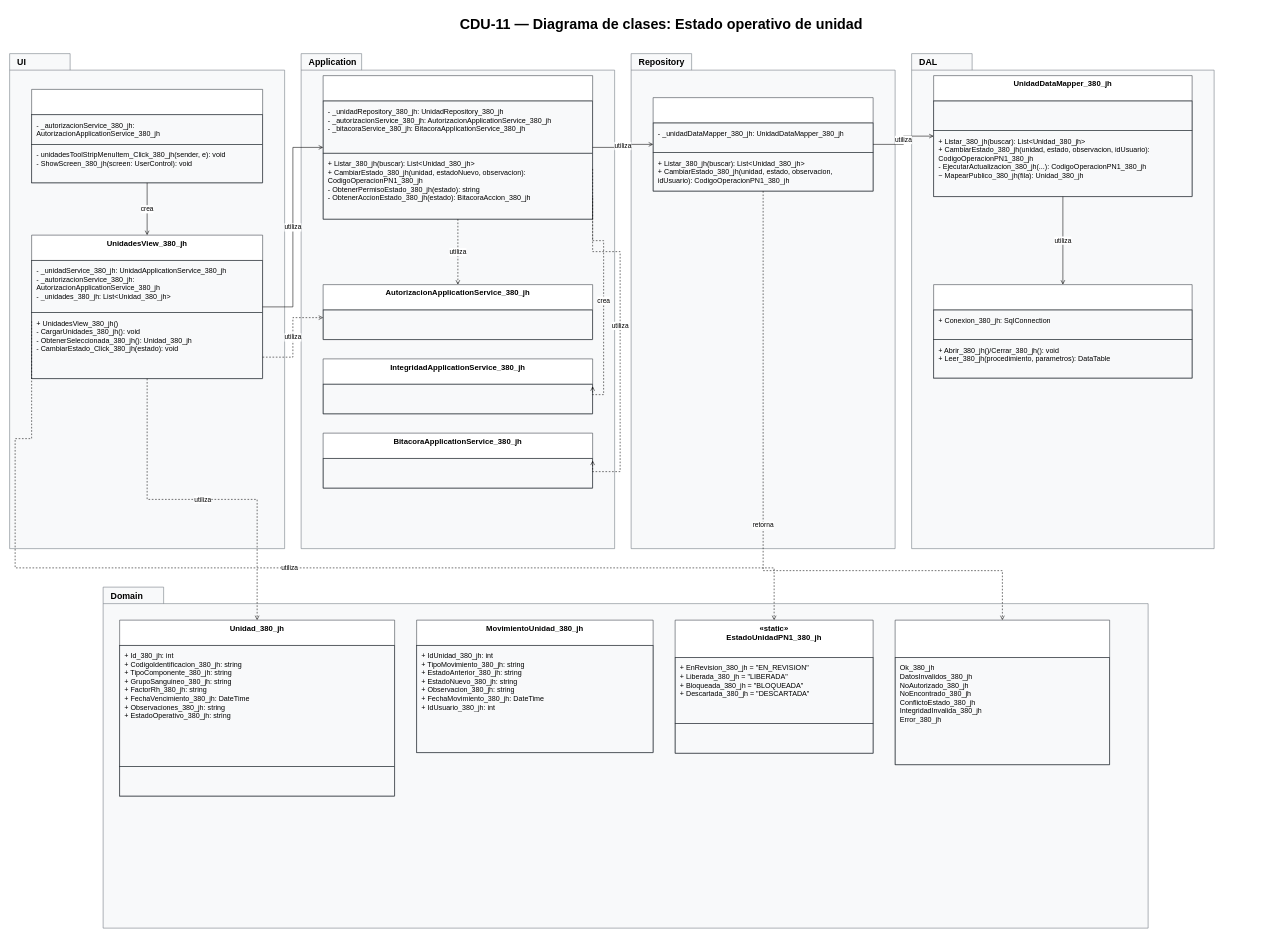
Some shapes in this 1262 by 938 pixel diagram are drawn without their labels. The shapes that lost their labels are listed below. From the top down, each one's box as (x1, y1, x2, y2) in pixels, then its label:
(933, 100, 1192, 131): - _databaseContext_380_jh: DatabaseContext_380_jh
(31, 89, 263, 183): MainForm_380_jh
(323, 75, 593, 219): UnidadApplicationService_380_jh
(653, 97, 873, 191): UnidadRepository_380_jh
(323, 309, 593, 340): + TienePermiso_380_jh(usuario, codigo): bool
(933, 284, 1192, 378): DatabaseContext_380_jh
(323, 384, 593, 414): + Verificar_380_jh(): InformeIntegridad_380_jh
(323, 458, 593, 488): + RegistrarEvento_380_jh(...): bool
(895, 620, 1110, 765): «enumeration» CodigoOperacionPN1_380_jh
(675, 723, 873, 753): + EsEstadoFinal_380_jh(estado): bool
(119, 766, 395, 796): + EstaClasificada_380_jh: bool
